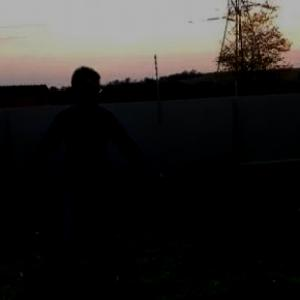land: (1, 70, 169, 295)
